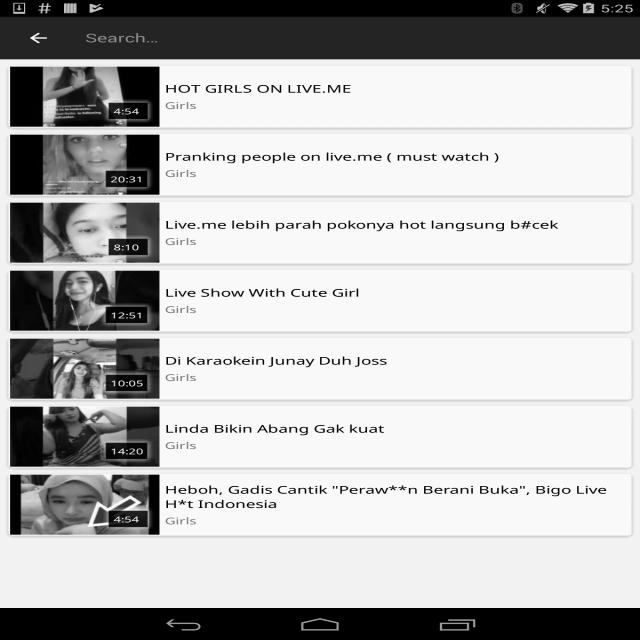EditText: (77, 26, 401, 50)
ImageButton: (9, 19, 68, 57)
ImageView: (10, 66, 160, 126), (10, 134, 160, 194), (10, 202, 160, 262), (10, 270, 160, 330), (10, 338, 160, 398), (10, 406, 160, 466), (10, 474, 160, 534)
TextView: (165, 482, 630, 511), (165, 81, 630, 96), (165, 149, 630, 164), (165, 217, 630, 232), (165, 285, 630, 300), (165, 353, 630, 368), (165, 421, 630, 436), (165, 99, 630, 112), (165, 167, 630, 180), (165, 235, 630, 248), (165, 303, 630, 316), (165, 371, 630, 384), (165, 439, 630, 452), (165, 514, 630, 527), (100, 167, 154, 191), (100, 303, 154, 327), (100, 371, 154, 395), (100, 439, 154, 463), (103, 99, 154, 123), (103, 235, 154, 259), (103, 507, 154, 531)
